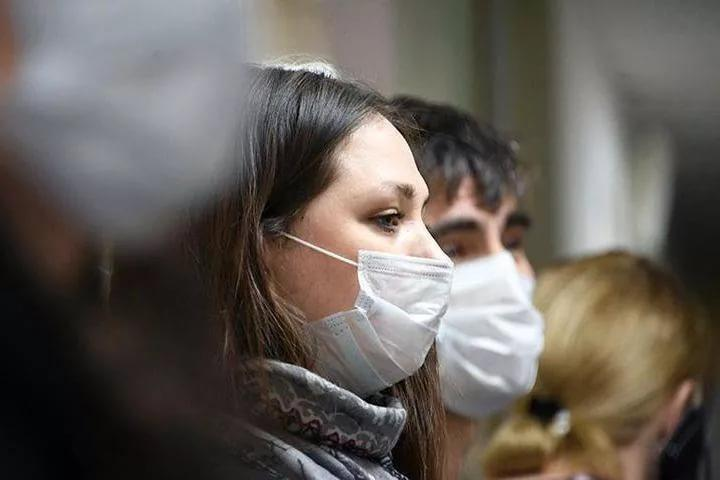mask: (286, 141, 454, 400), (438, 158, 548, 404)
